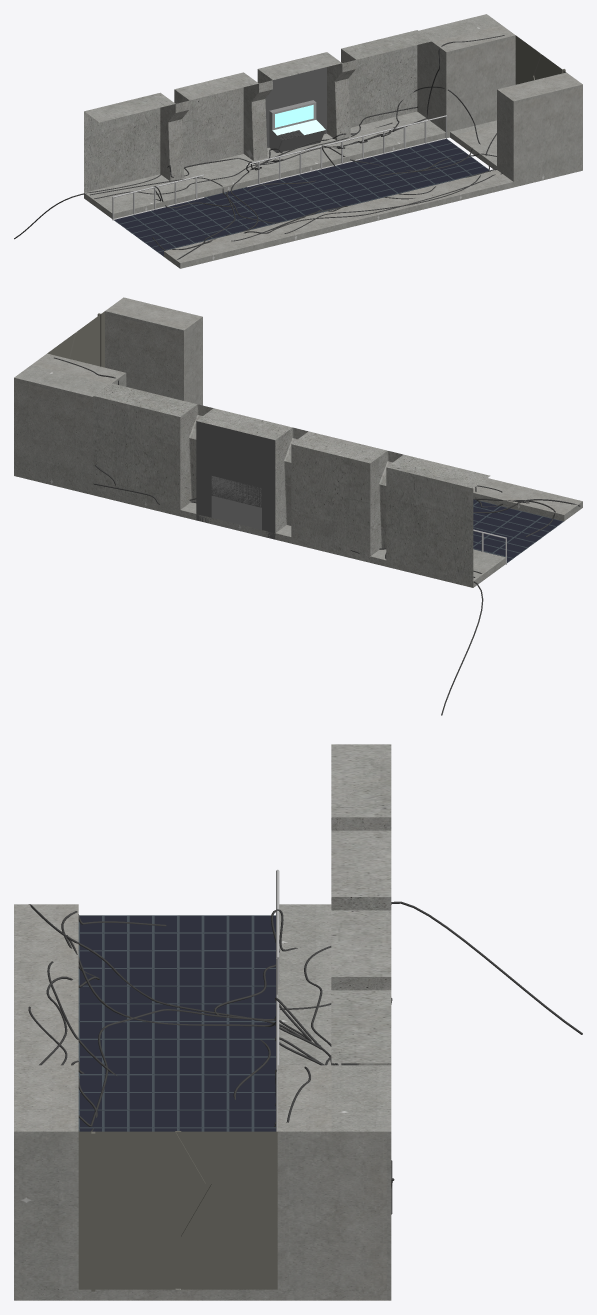
The model's file is rooms.glb.
3 views of the same model, one above another, from view 1: azimuth 30°, elevation 25°; view 2: azimuth 150°, elevation 25°; view 3: azimuth 270°, elevation 25° (orthographic). The views are drawn at different scales.
Parts seen in each view (by area): view 1: Cube.003, Cube.001, Cube.002, Cube.013, Cube.005, Cube.006, Cube.014, Cube.012, Cube.007, Cube.009, Cube.010; view 2: Cube.001, Cube.003, Cube.006, Cube.002, Cube.007, Cube.012, Cube.013, Cube.005; view 3: Cube.003, Cube.002, Cube.012, Cube.001, Cube.005, Cube.013, Cube.014.
Part boxes in pixels (left/top/right/bottom): Cube.003: left=84, top=14, right=582, bottom=268; Cube.001: left=84, top=30, right=432, bottom=192; Cube.002: left=114, top=139, right=488, bottom=255; Cube.013: left=14, top=35, right=504, bottom=261; Cube.005: left=114, top=138, right=489, bottom=256; Cube.006: left=265, top=67, right=326, bottom=147; Cube.014: left=112, top=115, right=446, bottom=220; Cube.012: left=515, top=35, right=565, bottom=84; Cube.007: left=269, top=100, right=325, bottom=152; Cube.009: left=275, top=105, right=313, bottom=127; Cube.010: left=272, top=120, right=325, bottom=135; Cube.001: left=93, top=383, right=490, bottom=587; Cube.003: left=14, top=297, right=582, bottom=587; Cube.006: left=196, top=421, right=275, bottom=539; Cube.002: left=473, top=499, right=562, bottom=562; Cube.007: left=211, top=476, right=261, bottom=535; Cube.012: left=47, top=311, right=104, bottom=367; Cube.013: left=54, top=357, right=580, bottom=715; Cube.005: left=473, top=499, right=563, bottom=562; Cube.003: left=14, top=904, right=391, bottom=1300; Cube.002: left=80, top=916, right=275, bottom=1131; Cube.012: left=78, top=1131, right=277, bottom=1291; Cube.001: left=331, top=744, right=391, bottom=1065; Cube.005: left=78, top=915, right=275, bottom=1131; Cube.013: left=28, top=901, right=582, bottom=1214; Cube.014: left=276, top=869, right=279, bottom=1131.
Size of the model in its own units: 25.59 by 9.09 by 15.08.
Materials: 13 (2 with a texture image).
